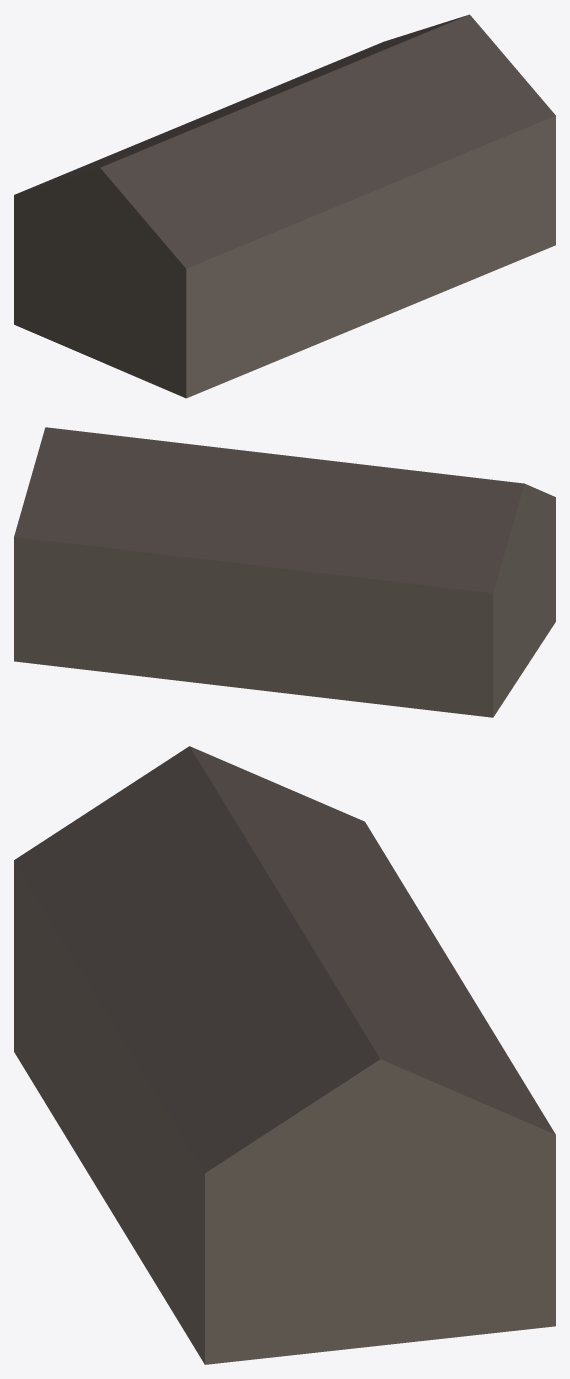
The picture shows the model from 3 angles, top to bottom: view 1: azimuth 30°, elevation 25°; view 2: azimuth 150°, elevation 25°; view 3: azimuth 270°, elevation 25°; orthographic projection. The views are drawn at different scales.
Visible parts, largest first — view 1: HP-w1201321556; view 2: HP-w1201321556; view 3: HP-w1201321556.
Part boxes in pixels (box(x1,y1,x2,y2)): HP-w1201321556: box(14, 14, 555, 398); HP-w1201321556: box(14, 427, 555, 717); HP-w1201321556: box(14, 746, 555, 1364).
Bounding box in the file's own units: 23.63 × 8.97 × 15.39.
